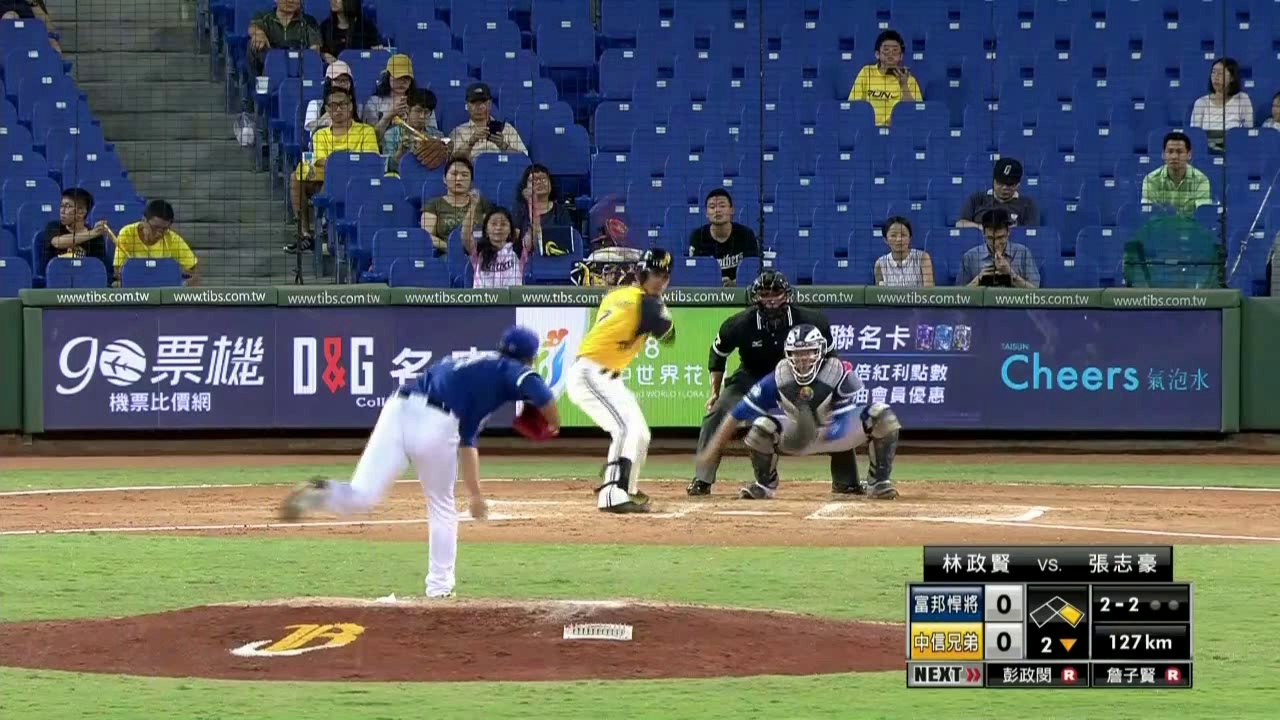ball: (1099, 631, 1180, 656)
base: (1026, 591, 1086, 629)
out: (1145, 588, 1186, 618)
score1: (986, 587, 1019, 618)
score2: (986, 624, 1020, 657)
session: (1027, 630, 1087, 658)
strikeball: (1093, 590, 1144, 616)
